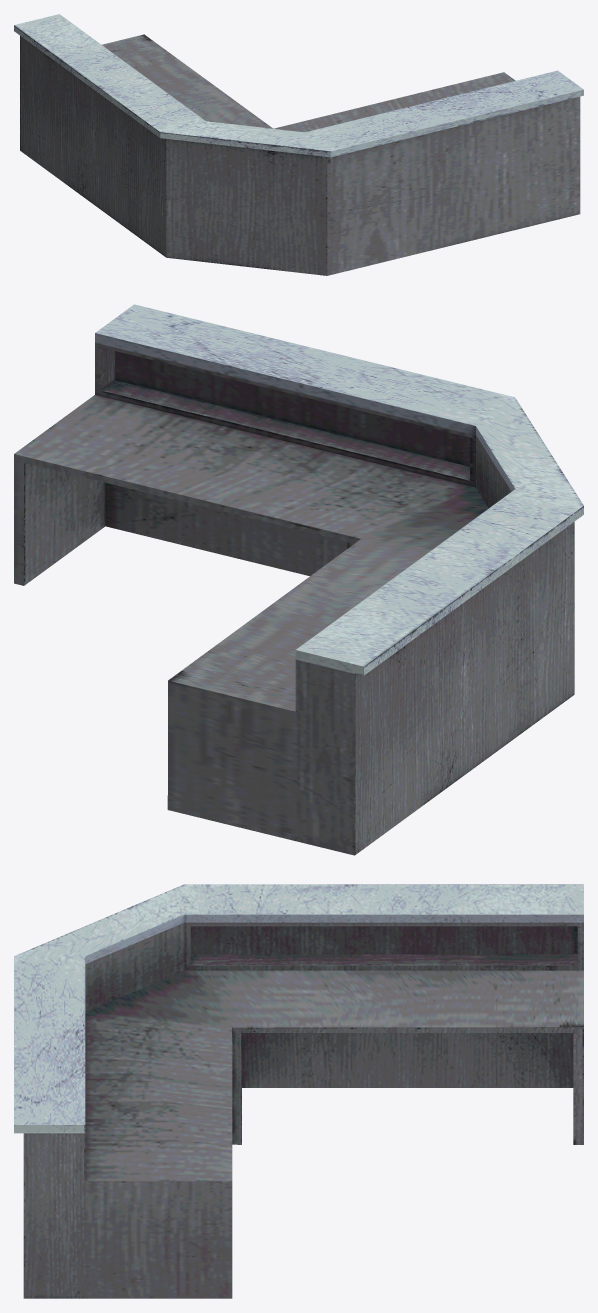
File: FURN Lib Reception Desk Lfbx.fbx
3 views of the same model, one above another, from view 1: azimuth 30°, elevation 25°; view 2: azimuth 150°, elevation 25°; view 3: azimuth 270°, elevation 25° (orthographic). The views are drawn at different scales.
Parts seen in each view (by area): view 1: FURN Lib Reception Desk L; view 2: FURN Lib Reception Desk L; view 3: FURN Lib Reception Desk L.
Boxes of the visible parts, left/top/right/bottom form: FURN Lib Reception Desk L: left=14, top=14, right=583, bottom=275; FURN Lib Reception Desk L: left=14, top=304, right=583, bottom=855; FURN Lib Reception Desk L: left=14, top=884, right=583, bottom=1298.
Size of the model in its own units: 242 by 81.27 by 242.
